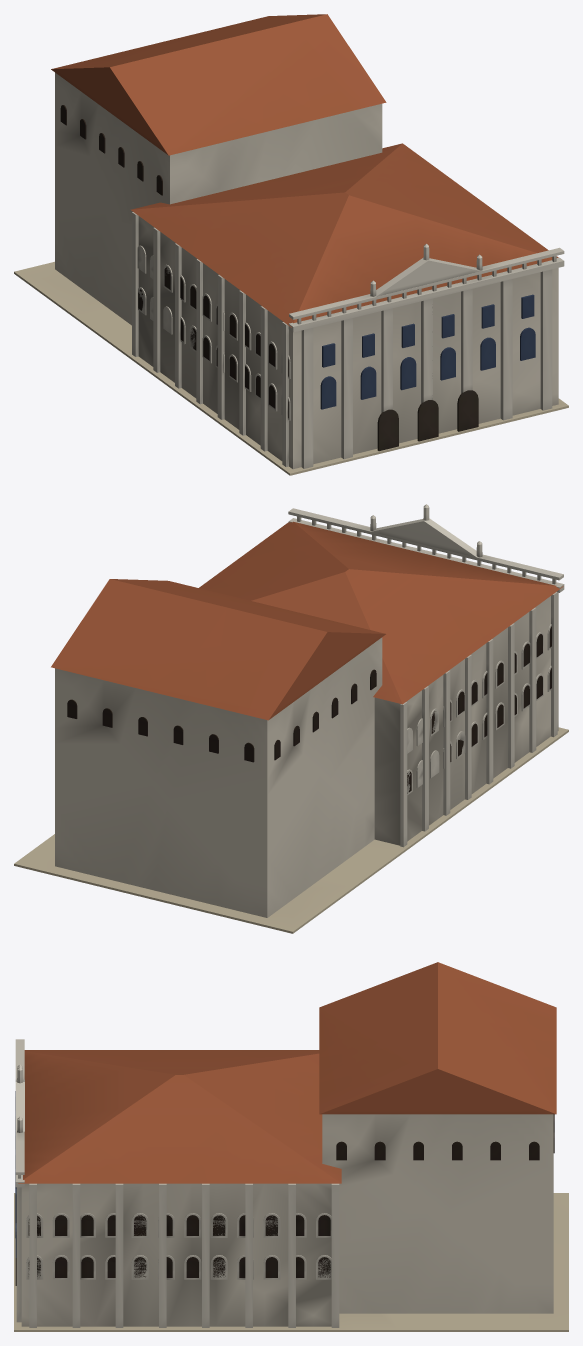
File: opera-do-tejo.glb
3 views of the same model, one above another, from view 1: azimuth 30°, elevation 25°; view 2: azimuth 150°, elevation 25°; view 3: azimuth 270°, elevation 25° (orthographic).
Parts seen in each view (by area): view 1: p1_auditorium, p2_stage house, p0_ground; view 2: p2_stage house, p1_auditorium, p0_ground; view 3: p1_auditorium, p2_stage house, p0_ground.
Boxes of the visible parts, bbox=[...] form: p1_auditorium: bbox=[130, 143, 564, 469]; p2_stage house: bbox=[51, 14, 482, 325]; p0_ground: bbox=[14, 261, 568, 475]; p2_stage house: bbox=[51, 504, 482, 917]; p1_auditorium: bbox=[199, 508, 564, 847]; p0_ground: bbox=[14, 727, 568, 933]; p1_auditorium: bbox=[15, 1039, 341, 1327]; p2_stage house: bbox=[15, 962, 556, 1313]; p0_ground: bbox=[14, 1193, 568, 1331].
Size of the model in its own units: 42 by 35.5 by 72.
